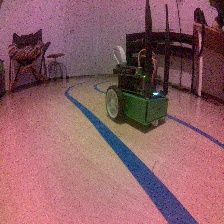rob: (104, 45, 169, 127)
